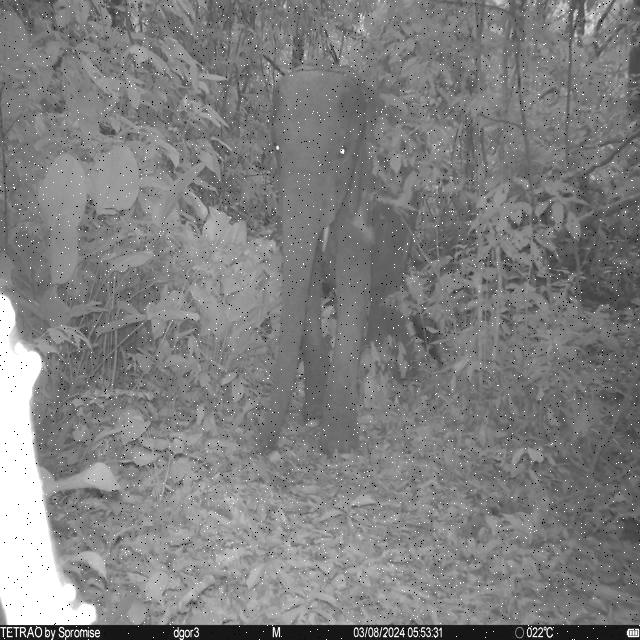elephant: (257, 62, 414, 460)
tusk: (321, 224, 332, 256)
